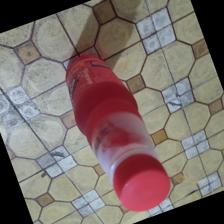Sting: (61, 53, 171, 212)
